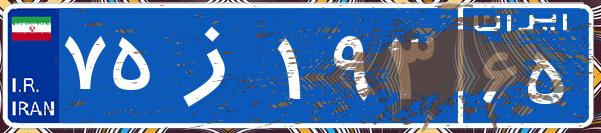1: (273, 28, 330, 110)
3: (385, 28, 445, 110)
5: (110, 28, 158, 105), (525, 38, 570, 115)
6: (475, 38, 525, 113)
7: (57, 26, 110, 107)
9: (330, 28, 385, 110)
ز: (158, 15, 273, 115)
